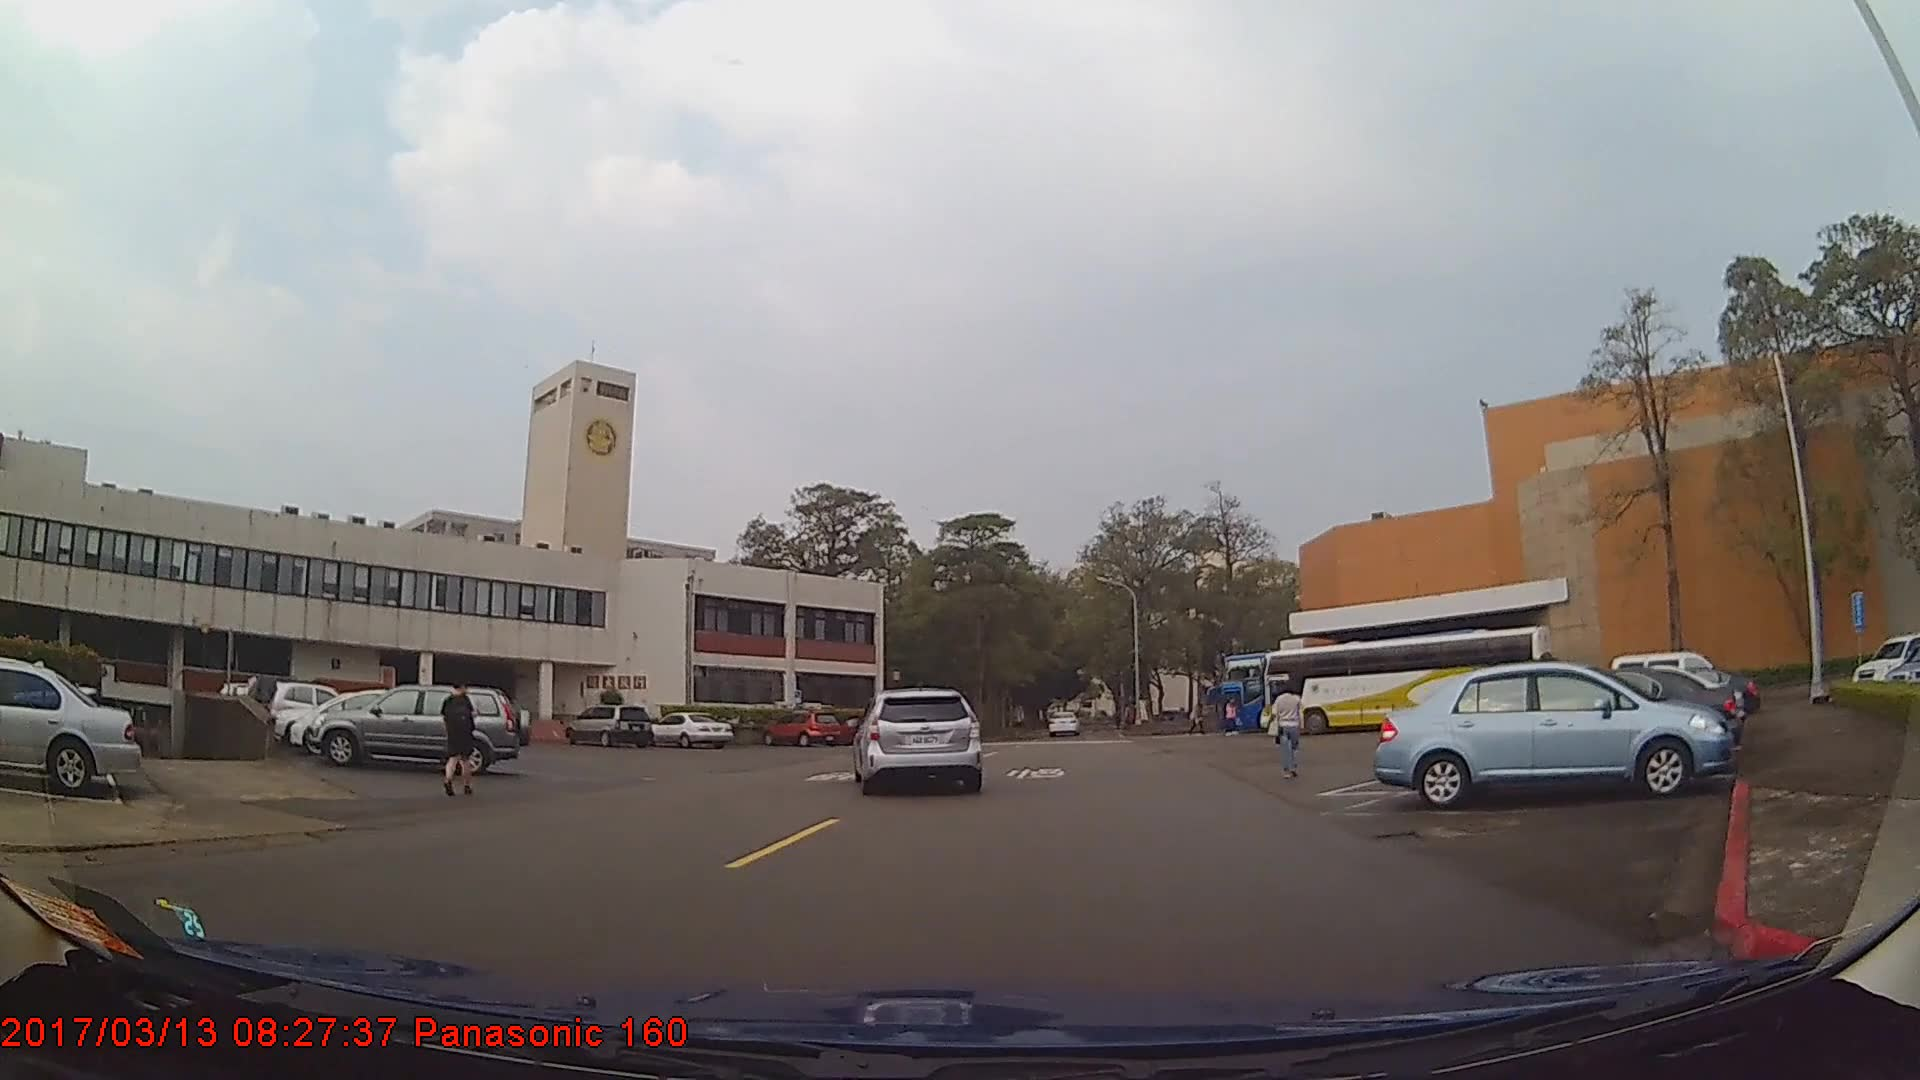pedestrian: (436, 668, 480, 791), (1260, 664, 1303, 762)
vehicle: (1375, 659, 1736, 811), (1433, 667, 1736, 775), (1261, 625, 1547, 734), (1219, 644, 1458, 735), (0, 655, 142, 799), (310, 683, 528, 775), (853, 685, 980, 795), (270, 679, 367, 735), (561, 701, 654, 748), (648, 709, 734, 749), (759, 706, 842, 747), (1044, 704, 1074, 733)
